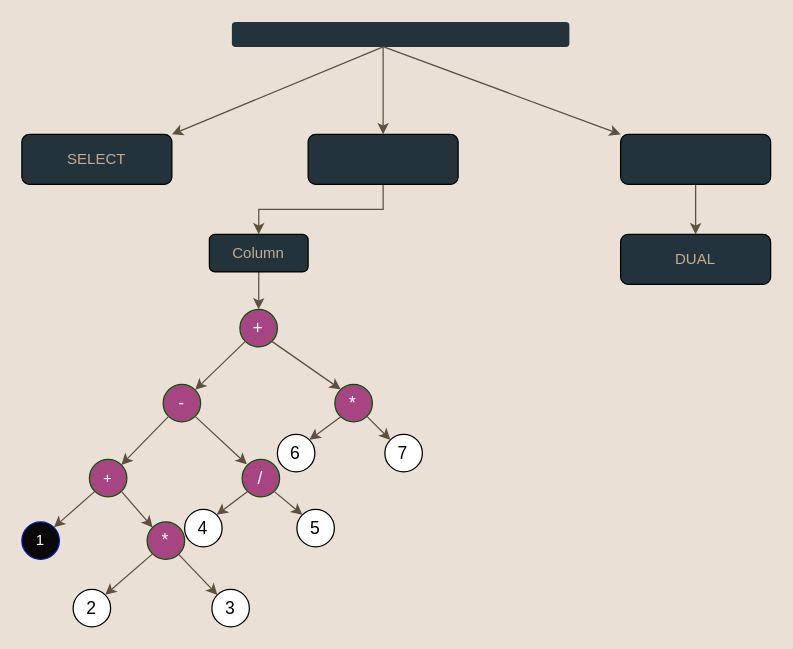
The diagram is 793 pixels wide and 649 high, and some of its shapes have lost their labels. The shapes that lost their labels are listed below. From the top down, each one's centre as x and y in pixels, then its label:
pixel 400 33: SELECT 1 + 2 * 3 - 4 / 5 + 6 * 7 FROM DUAL
pixel 382 158: Column List
pixel 695 158: FROM DUAL
